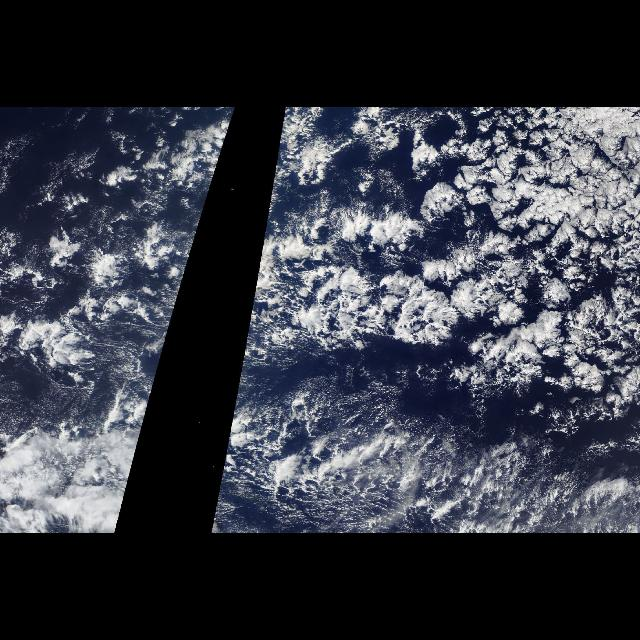Flower: (300, 168, 628, 470)
Gravel: (212, 392, 552, 528)
